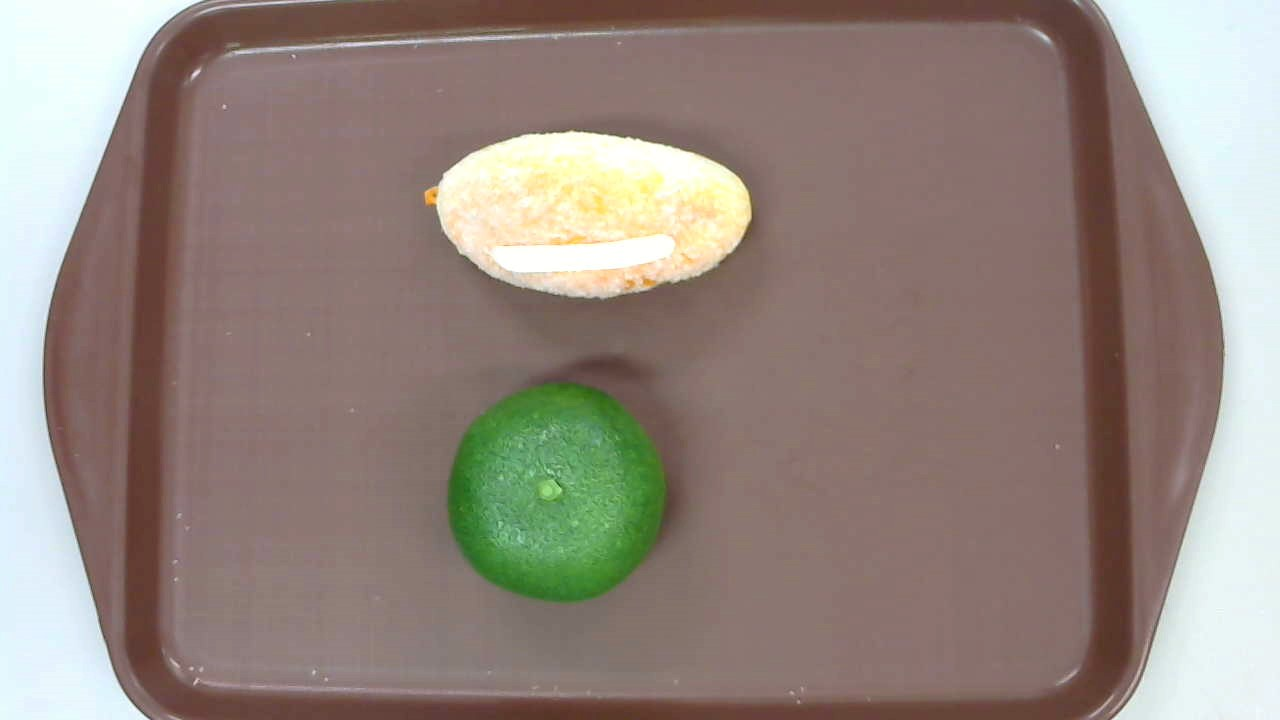coconut: (424, 131, 753, 300)
green orange: (447, 383, 667, 602)
